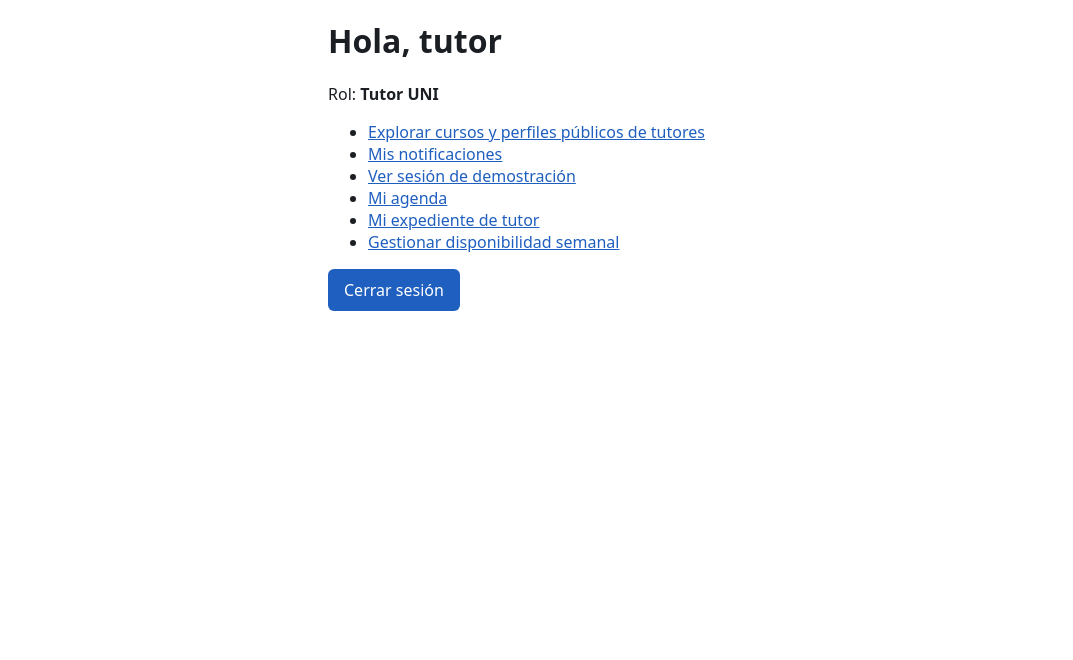
Scenario: Inicio y modo demo › permite navegar al tutor en modo demo
Click the link "Ver sesión de demostración": (472,176) left=368, top=165, right=576, bottom=187
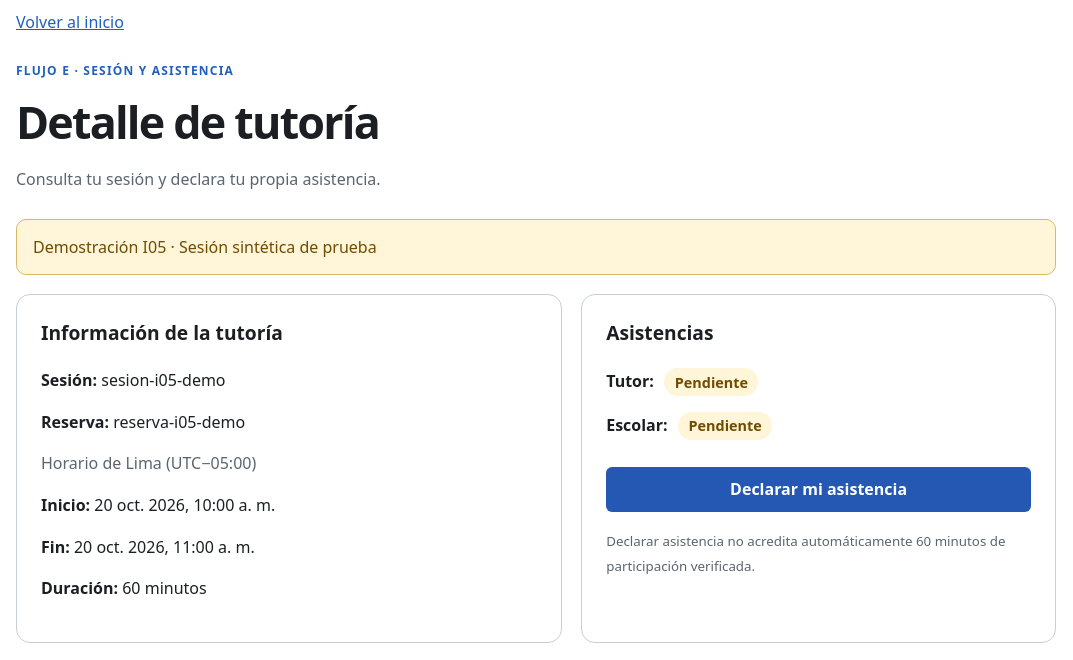
Expected: the heading "Detalle de tutoría" is shown, left=16, top=91, right=379, bottom=152
